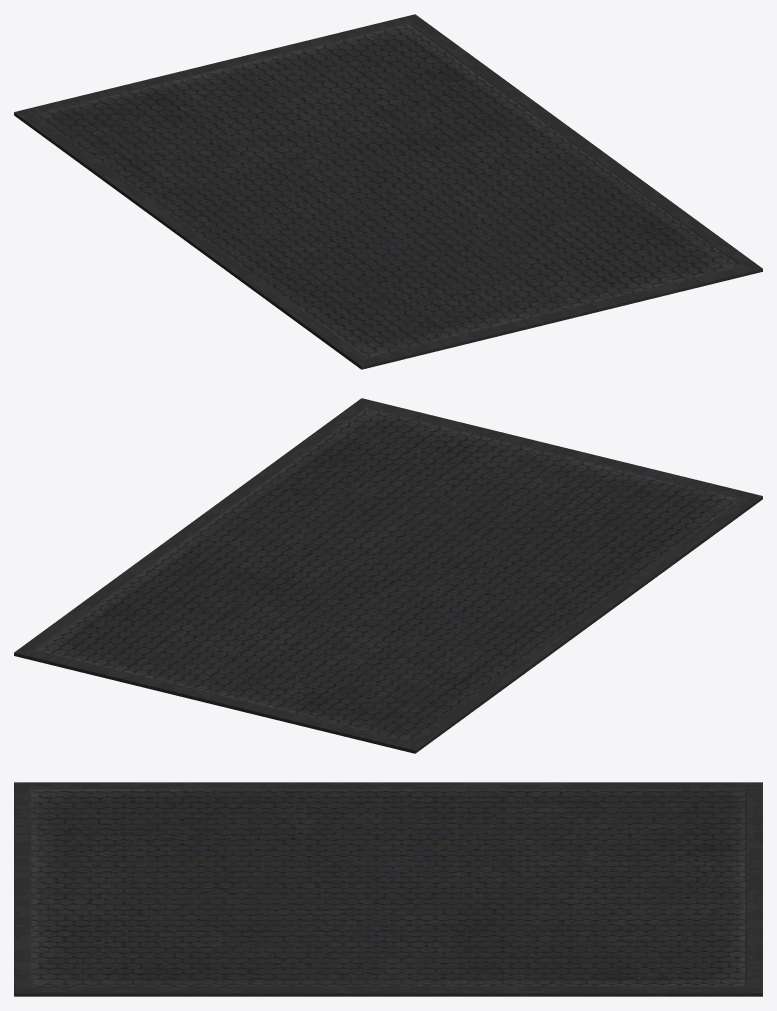
The model's file is vattenverk_wycieraczka_wewnetrzna_00517017.glb.
The picture shows the model from 3 angles, top to bottom: view 1: azimuth 30°, elevation 25°; view 2: azimuth 150°, elevation 25°; view 3: azimuth 270°, elevation 25°; orthographic projection. The views are drawn at different scales.
Parts seen in each view (by area): view 1: vattenverk_wycieraczka_wewnetrzna_00517017; view 2: vattenverk_wycieraczka_wewnetrzna_00517017; view 3: vattenverk_wycieraczka_wewnetrzna_00517017.
Boxes of the visible parts, x1,y1,x2,y2 form: vattenverk_wycieraczka_wewnetrzna_00517017: [14, 14, 762, 369]; vattenverk_wycieraczka_wewnetrzna_00517017: [14, 398, 762, 753]; vattenverk_wycieraczka_wewnetrzna_00517017: [14, 782, 762, 996].
Bounding box in the file's own units: 0.6 × 0.005 × 0.9.
1 material, 1 textured.
